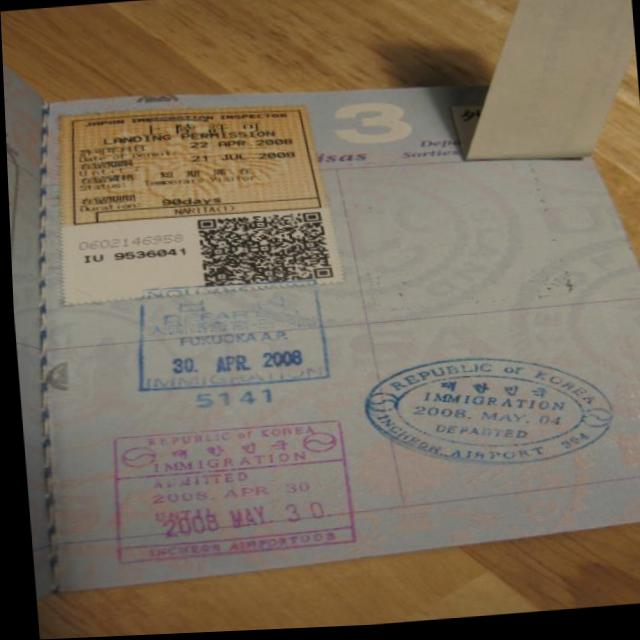qrcode: (197, 214, 331, 290)
